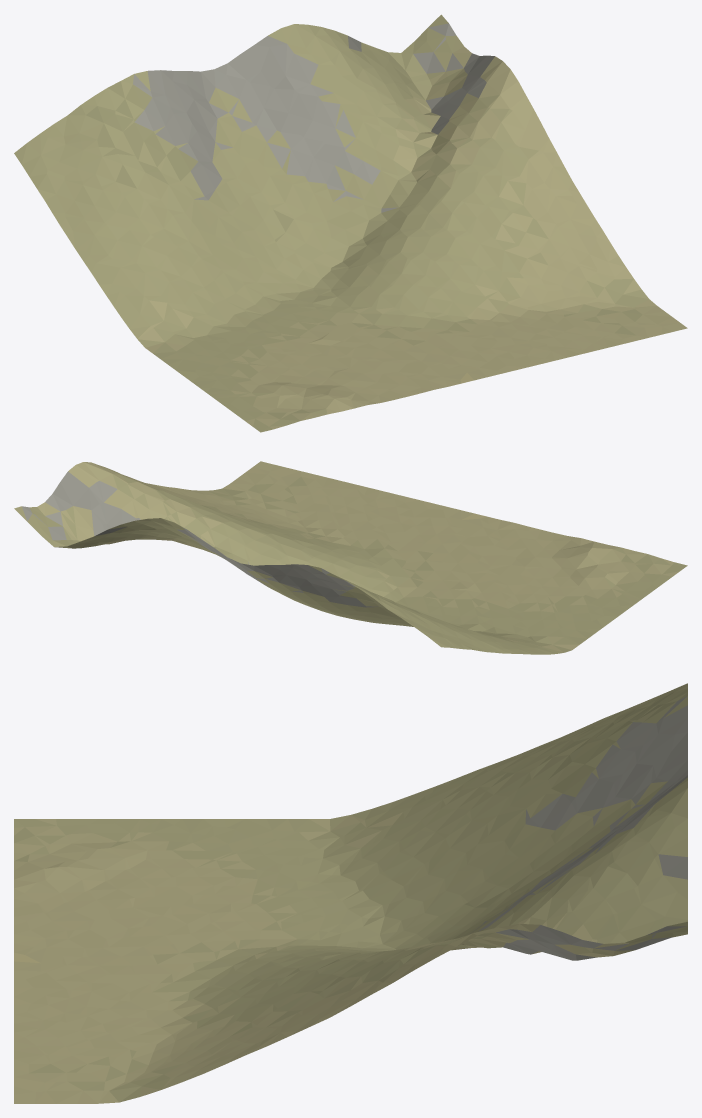
The model's file is Ground_3_2.glb.
The picture shows the model from 3 angles, top to bottom: view 1: azimuth 30°, elevation 25°; view 2: azimuth 150°, elevation 25°; view 3: azimuth 270°, elevation 25°; orthographic projection. The views are drawn at different scales.
Parts seen in each view (by area): view 1: Ground_3_2; view 2: Ground_3_2; view 3: Ground_3_2.
Part boxes in pixels (box(x1,y1,x2,y2)): Ground_3_2: box(14, 14, 687, 432); Ground_3_2: box(14, 461, 687, 654); Ground_3_2: box(14, 683, 687, 1103).
Size of the model in its own units: 768 by 274 by 768.
